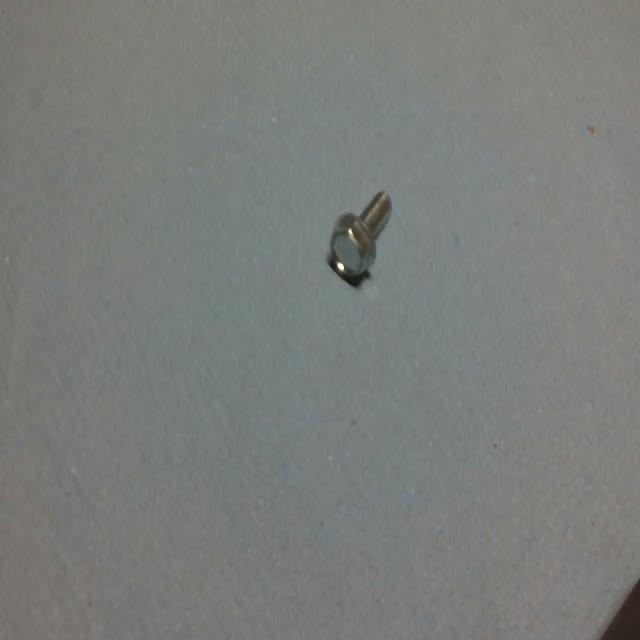Bolt: (328, 191, 392, 280)
